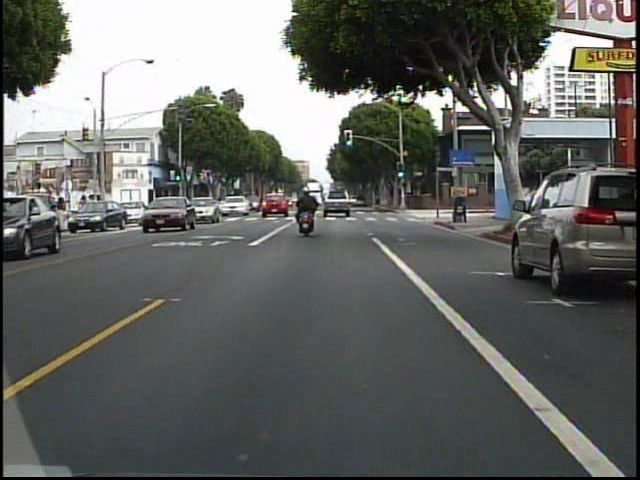person: (292, 183, 323, 239)
